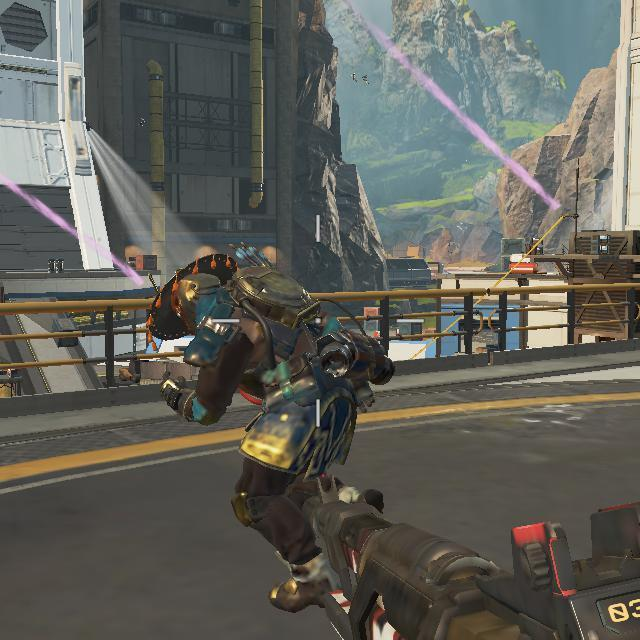avatar: (141, 248, 378, 616)
